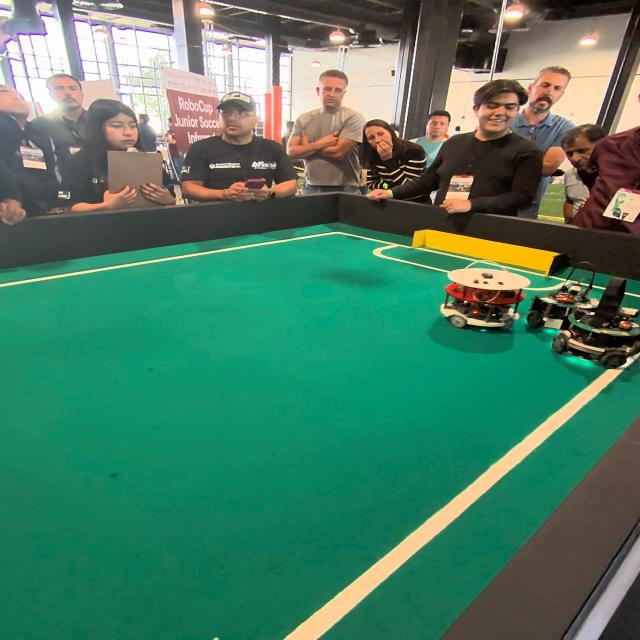Robot: (551, 272, 637, 375), (440, 258, 523, 338), (542, 263, 594, 317)
